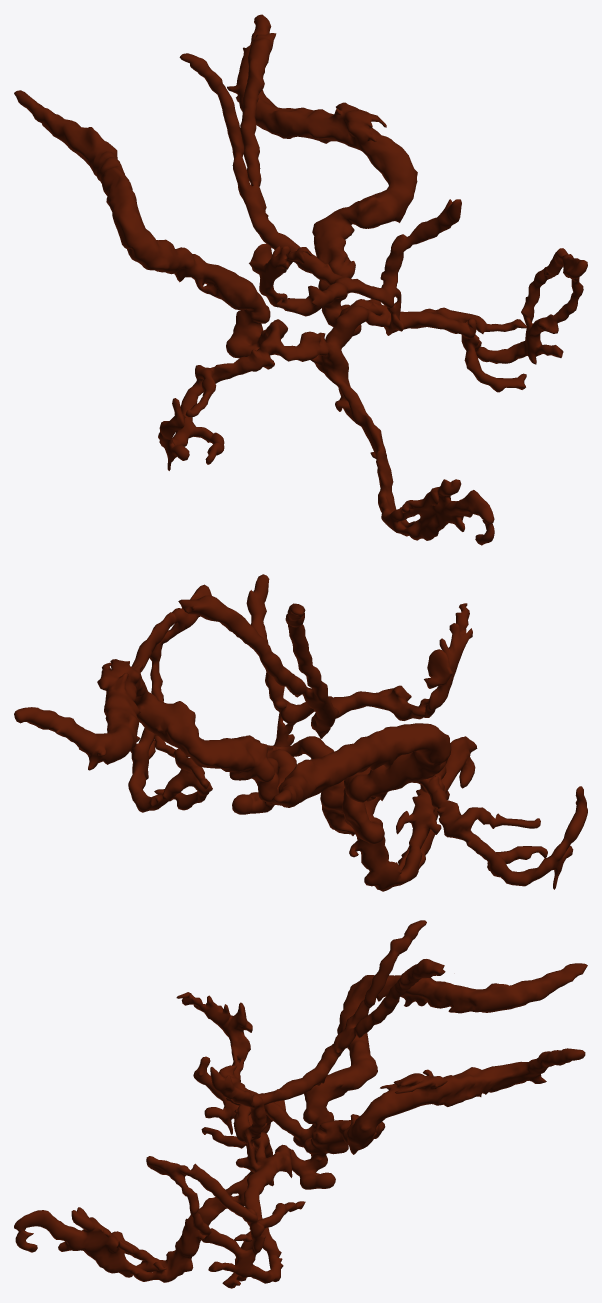
Rendered from Arteries.obj.
3 renders of one model, top to bottom at view 1: azimuth 30°, elevation 25°; view 2: azimuth 150°, elevation 25°; view 3: azimuth 270°, elevation 25°, orthographic. The views are drawn at different scales.
Visible parts, largest first — view 1: grp1; view 2: grp1; view 3: grp1.
Part boxes in pixels (x1,y1,x2,y2): grp1: (14, 14, 587, 545); grp1: (14, 574, 587, 891); grp1: (14, 920, 587, 1288).
Size of the model in its own units: 82.72 by 73.98 by 115.
